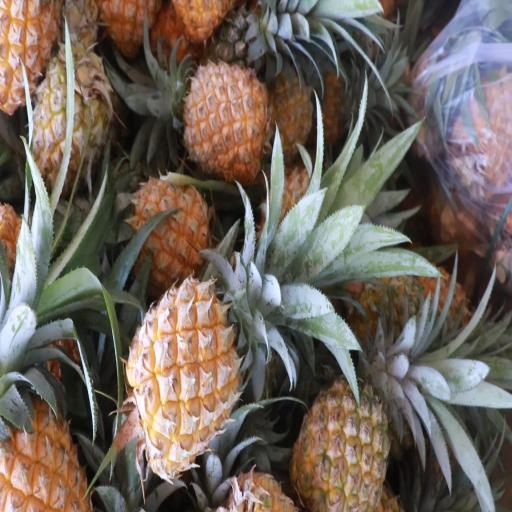------------------------------: (296, 368, 390, 510), (27, 51, 108, 199)
Pineapple - v8 v1: (125, 284, 239, 462), (0, 377, 87, 512), (183, 63, 269, 175), (128, 180, 209, 288)
